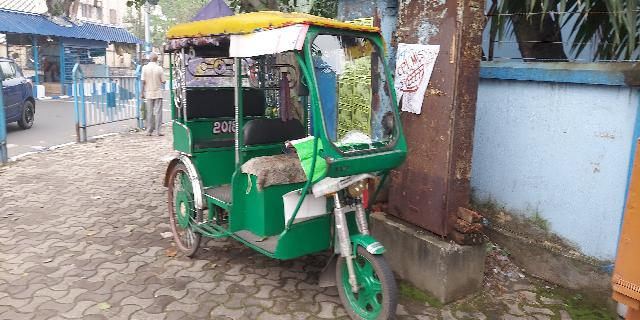Rickshaw: (162, 20, 414, 309)
